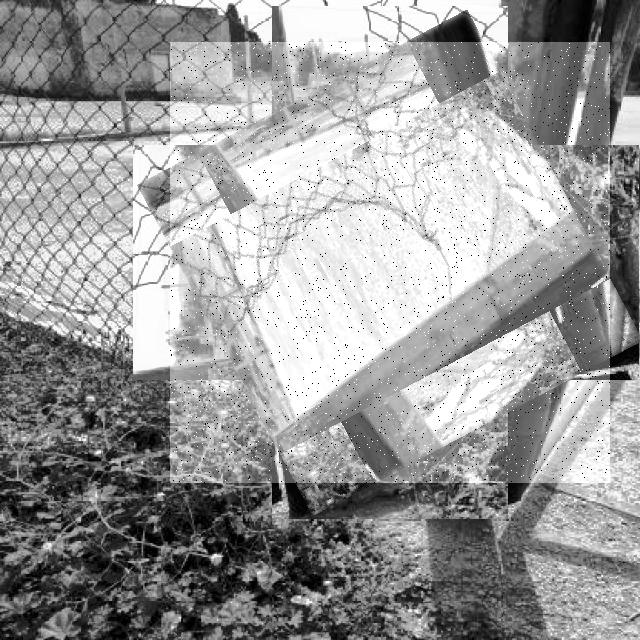anomaly-fence: (170, 42, 610, 483)
